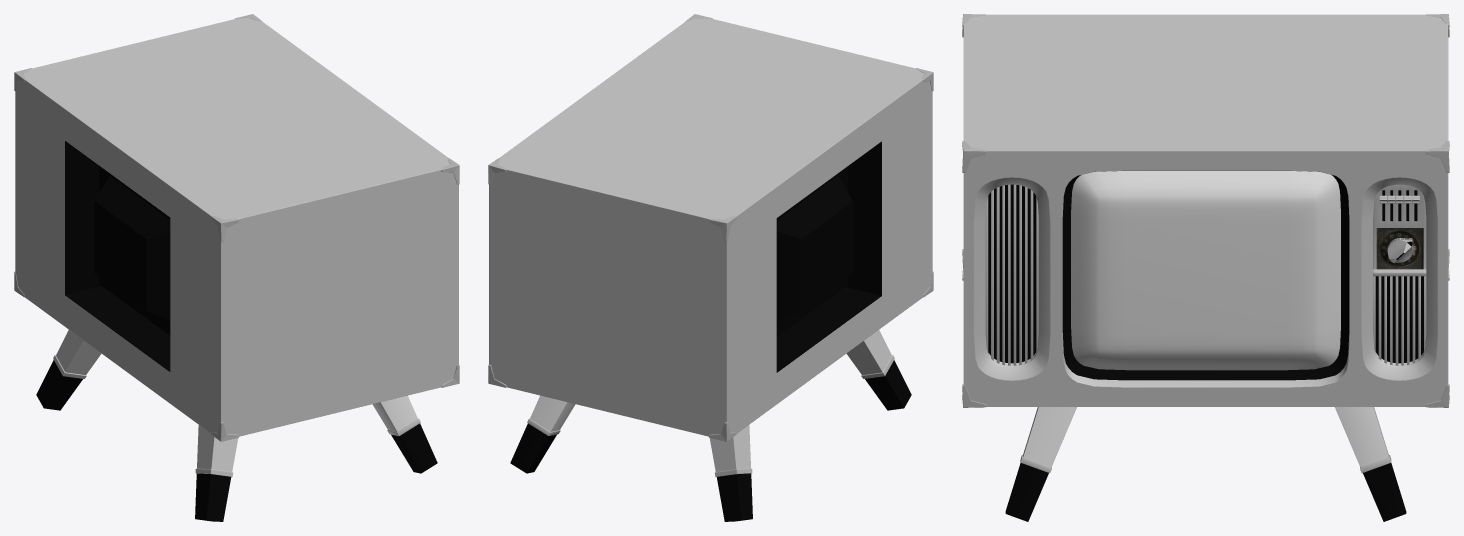
The picture shows the model from 3 angles, left to right: view 1: azimuth 30°, elevation 25°; view 2: azimuth 150°, elevation 25°; view 3: azimuth 270°, elevation 25°; orthographic projection. The views are drawn at different scales.
Visible parts, largest first — view 1: Tv.002; view 2: Tv.002; view 3: Tv.002, Tv.001.
Boxes of the visible parts, x1,y1,x2,y2 form: Tv.002: [14, 14, 459, 521]; Tv.002: [488, 14, 933, 521]; Tv.002: [962, 14, 1449, 521]; Tv.001: [1387, 238, 1412, 262].
Size of the model in its own units: 80.48 by 104 by 121.
